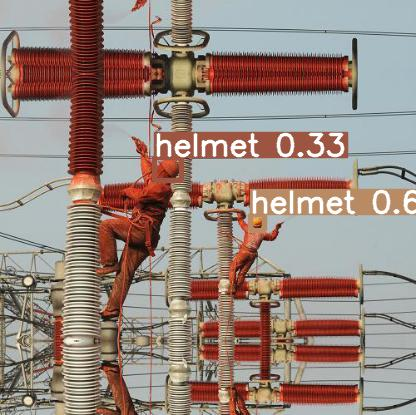helmet: (154, 157, 181, 180), (250, 214, 264, 230)
